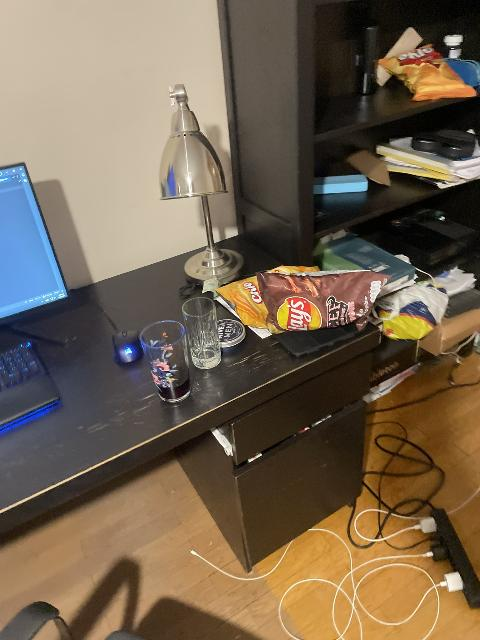Chio Cascaval 125g: (374, 45, 477, 99)
Chio Hula Hoops Cheese 70g: (217, 267, 328, 335)
Lays Beef Grilled Ribs 125g: (254, 271, 392, 333)
